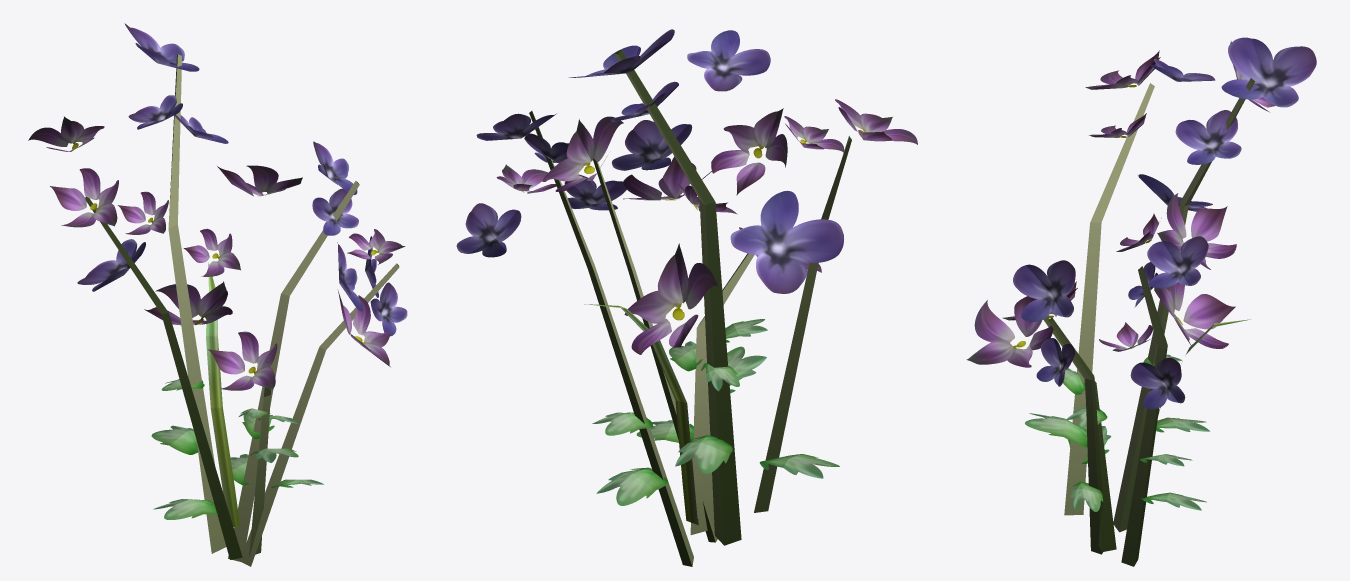
File: SM_Flower.fbx
3 views of the same model, side by side, from view 1: azimuth 30°, elevation 25°; view 2: azimuth 150°, elevation 25°; view 3: azimuth 270°, elevation 25° (orthographic). The views are drawn at different scales.
Visible parts, largest first — view 1: Plane.124, Plane.126, Plane.127, Plane.120, Plane.129, Plane.140, Plane.141, Plane.122, Plane.125, Plane.153, Plane.142, Plane.144 (+13 smaller); view 2: Plane.124, Plane.144, Plane.122, Plane.127, Plane.126, Plane.125, Plane.139, Plane.146, Plane.138, Plane.150, Plane.151, Plane.129 (+17 smaller); view 3: Plane.126, Plane.121, Plane.127, Plane.124, Plane.153, Plane.151, Plane.122, Plane.145, Plane.147, Plane.120, Plane.138, Plane.150 (+12 smaller).
Boxes of the visible parts, x1=… form: Plane.124: x1=168, y1=54, x2=226, y2=553; Plane.126: x1=85, y1=197, x2=242, y2=559; Plane.127: x1=228, y1=181, x2=359, y2=561; Plane.120: x1=239, y1=263, x2=399, y2=566; Plane.129: x1=206, y1=262, x2=239, y2=526; Plane.140: x1=50, y1=168, x2=118, y2=227; Plane.141: x1=208, y1=331, x2=277, y2=390; Plane.122: x1=144, y1=281, x2=232, y2=325; Plane.125: x1=249, y1=359, x2=270, y2=556; Plane.153: x1=337, y1=289, x2=390, y2=366; Plane.142: x1=183, y1=228, x2=240, y2=276; Plane.144: x1=77, y1=239, x2=145, y2=291; Plane.124: x1=614, y1=49, x2=741, y2=545; Plane.144: x1=730, y1=190, x2=843, y2=293; Plane.122: x1=624, y1=243, x2=718, y2=354; Plane.127: x1=529, y1=111, x2=693, y2=566; Plane.126: x1=754, y1=136, x2=851, y2=512; Plane.125: x1=690, y1=253, x2=754, y2=534; Plane.139: x1=711, y1=108, x2=787, y2=195; Plane.146: x1=687, y1=30, x2=770, y2=91; Plane.138: x1=542, y1=116, x2=623, y2=191; Plane.150: x1=456, y1=203, x2=521, y2=257; Plane.151: x1=612, y1=120, x2=692, y2=170; Plane.129: x1=584, y1=304, x2=698, y2=525; Plane.126: x1=1064, y1=83, x2=1154, y2=515; Plane.121: x1=1221, y1=37, x2=1316, y2=107; Plane.127: x1=1121, y1=266, x2=1167, y2=566; Plane.124: x1=1113, y1=78, x2=1254, y2=532; Plane.153: x1=966, y1=296, x2=1053, y2=367; Plane.151: x1=1013, y1=260, x2=1075, y2=321; Plane.122: x1=1154, y1=282, x2=1235, y2=348; Plane.145: x1=1175, y1=110, x2=1241, y2=164; Plane.147: x1=1147, y1=236, x2=1208, y2=288; Plane.120: x1=1048, y1=317, x2=1103, y2=554; Plane.138: x1=1157, y1=193, x2=1236, y2=269; Plane.150: x1=1130, y1=357, x2=1185, y2=409.
Bounding box in the file's own units: 29.15 × 38.08 × 24.74.
2 materials, 2 textured.
